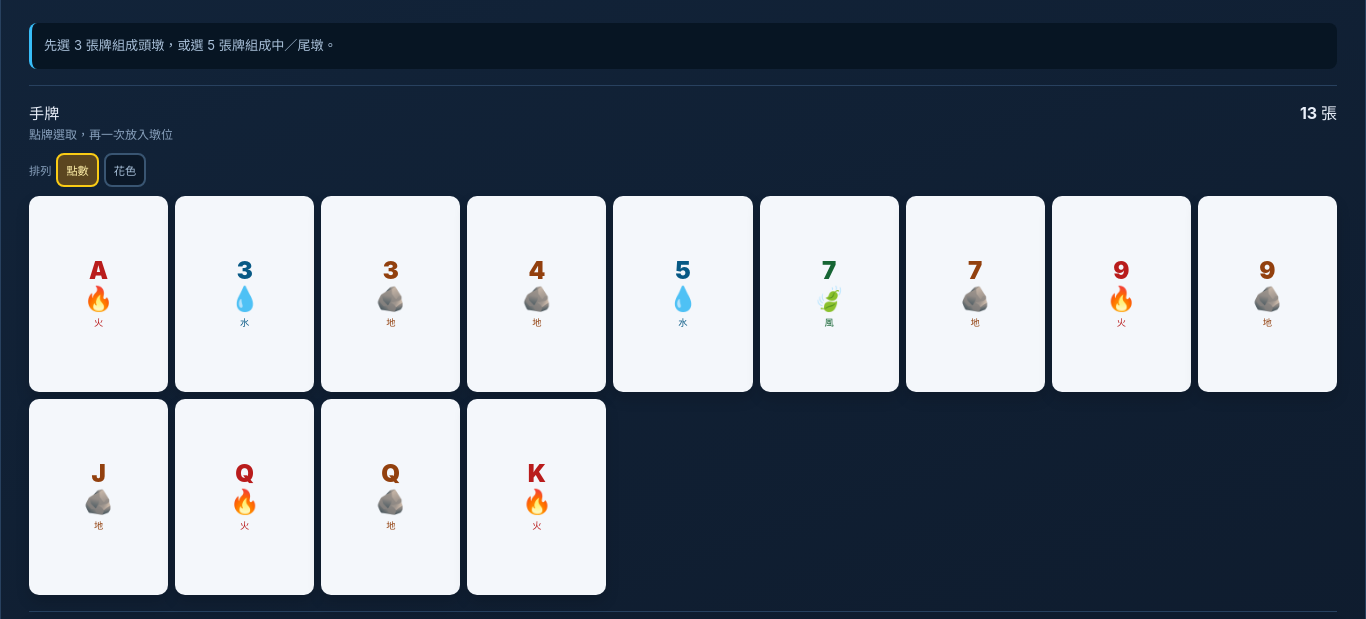
P0BattleLab › explains when the current selection is not a complete lane group
Click the button "A 🔥 火": (99, 294) [29,196,168,392]
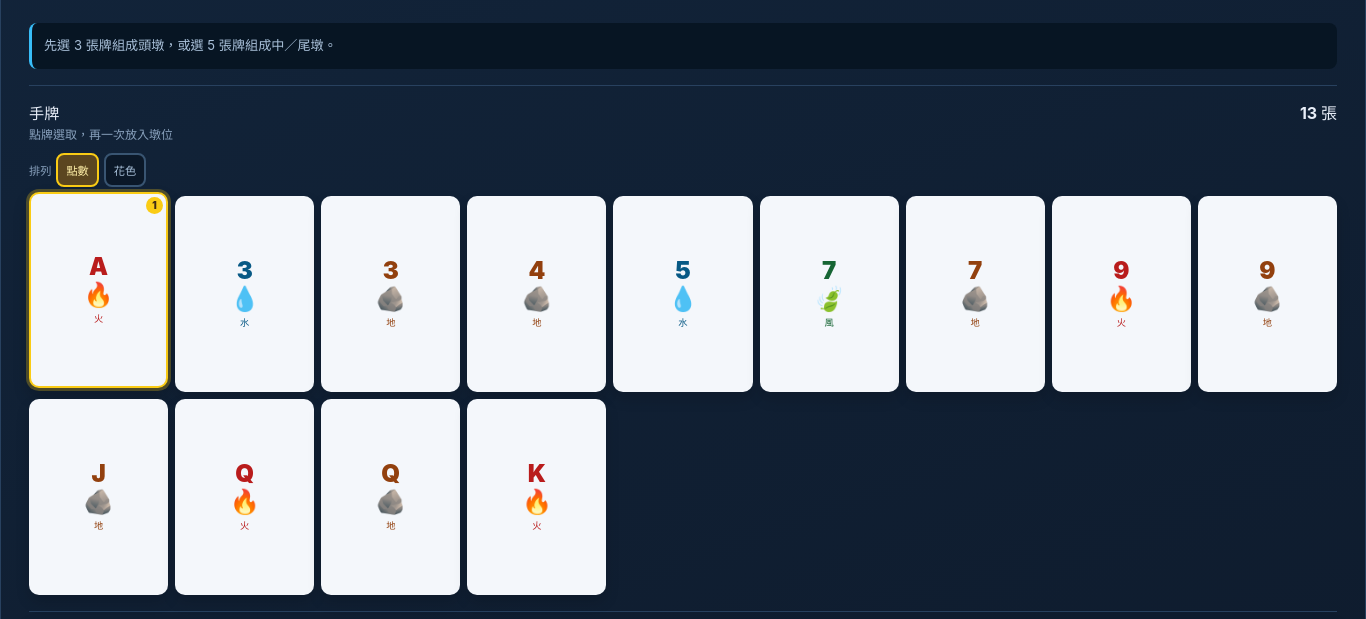
Click the button "3 💧 水": (245, 294) [175,196,314,392]
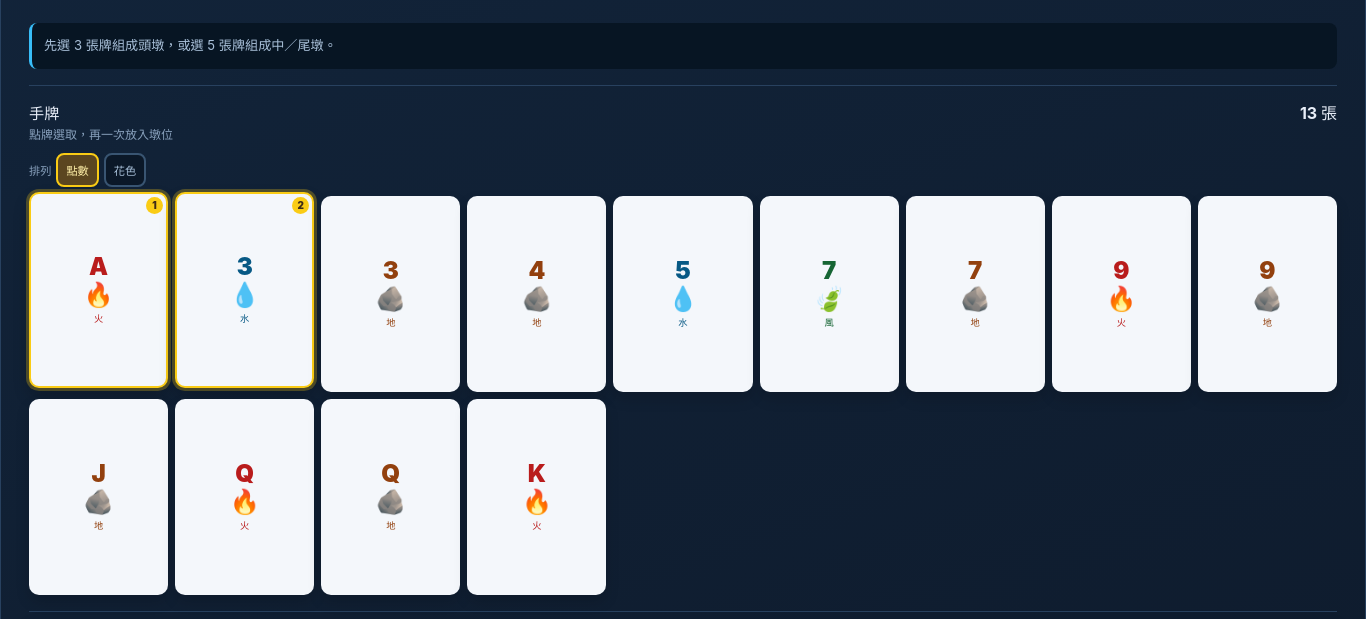
Click the button "3 🪨 地": (391, 294) [321,196,460,392]
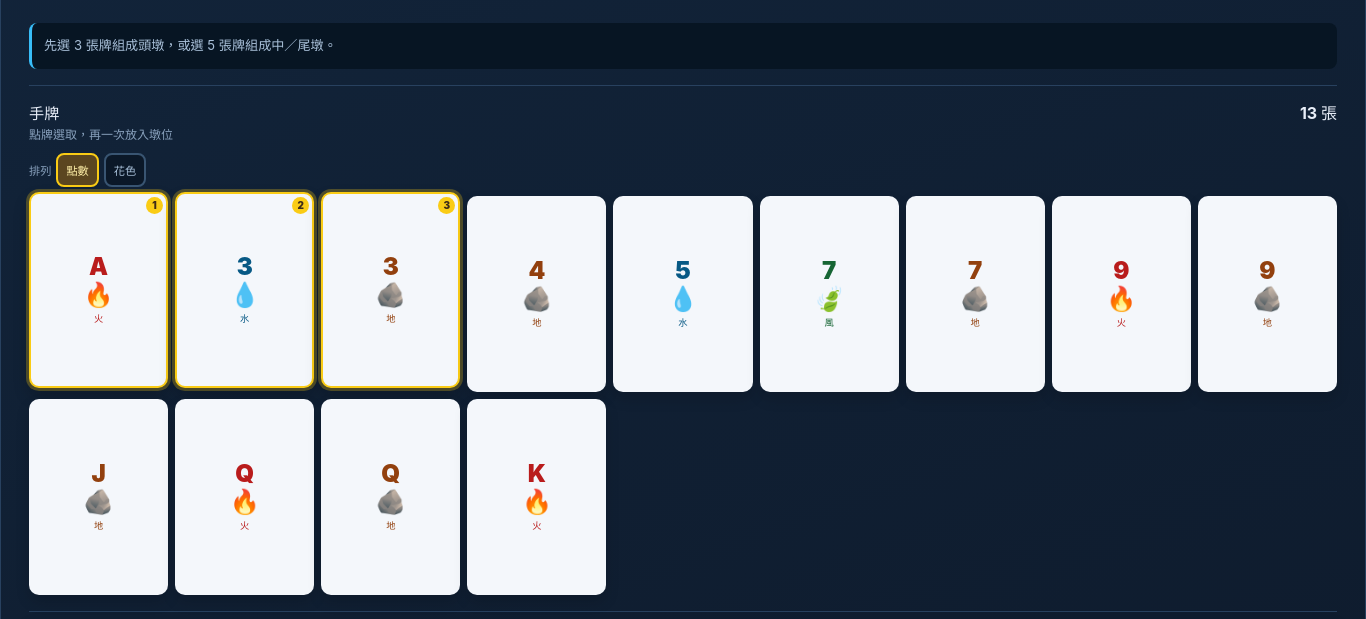
Click the button "4 🪨 地": (537, 294) [467,196,606,392]
(page scrolled)
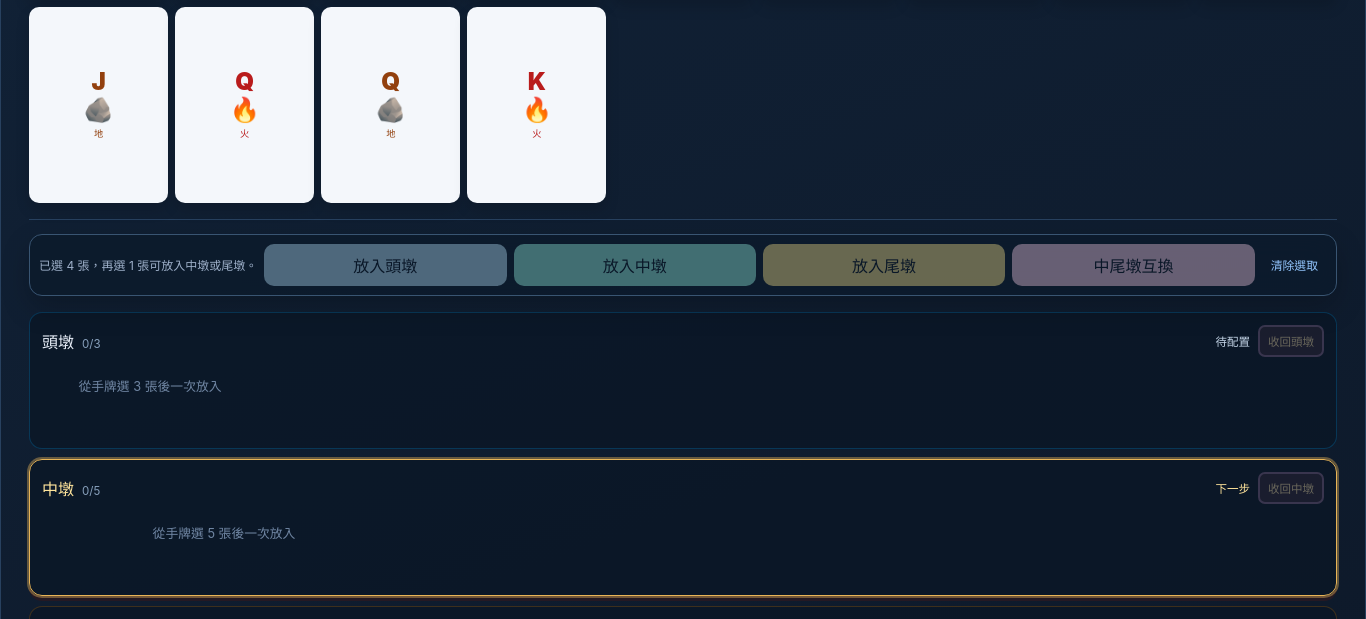
Expected: the button "放入中墩" is disabled, [514,244,756,286]
Expected: the text "已選 4 張，再選 1 張可放入中墩或尾墩。" is shown, [39,256,257,273]
Expected: the button "放入頭墩" is disabled, [264,244,506,286]
